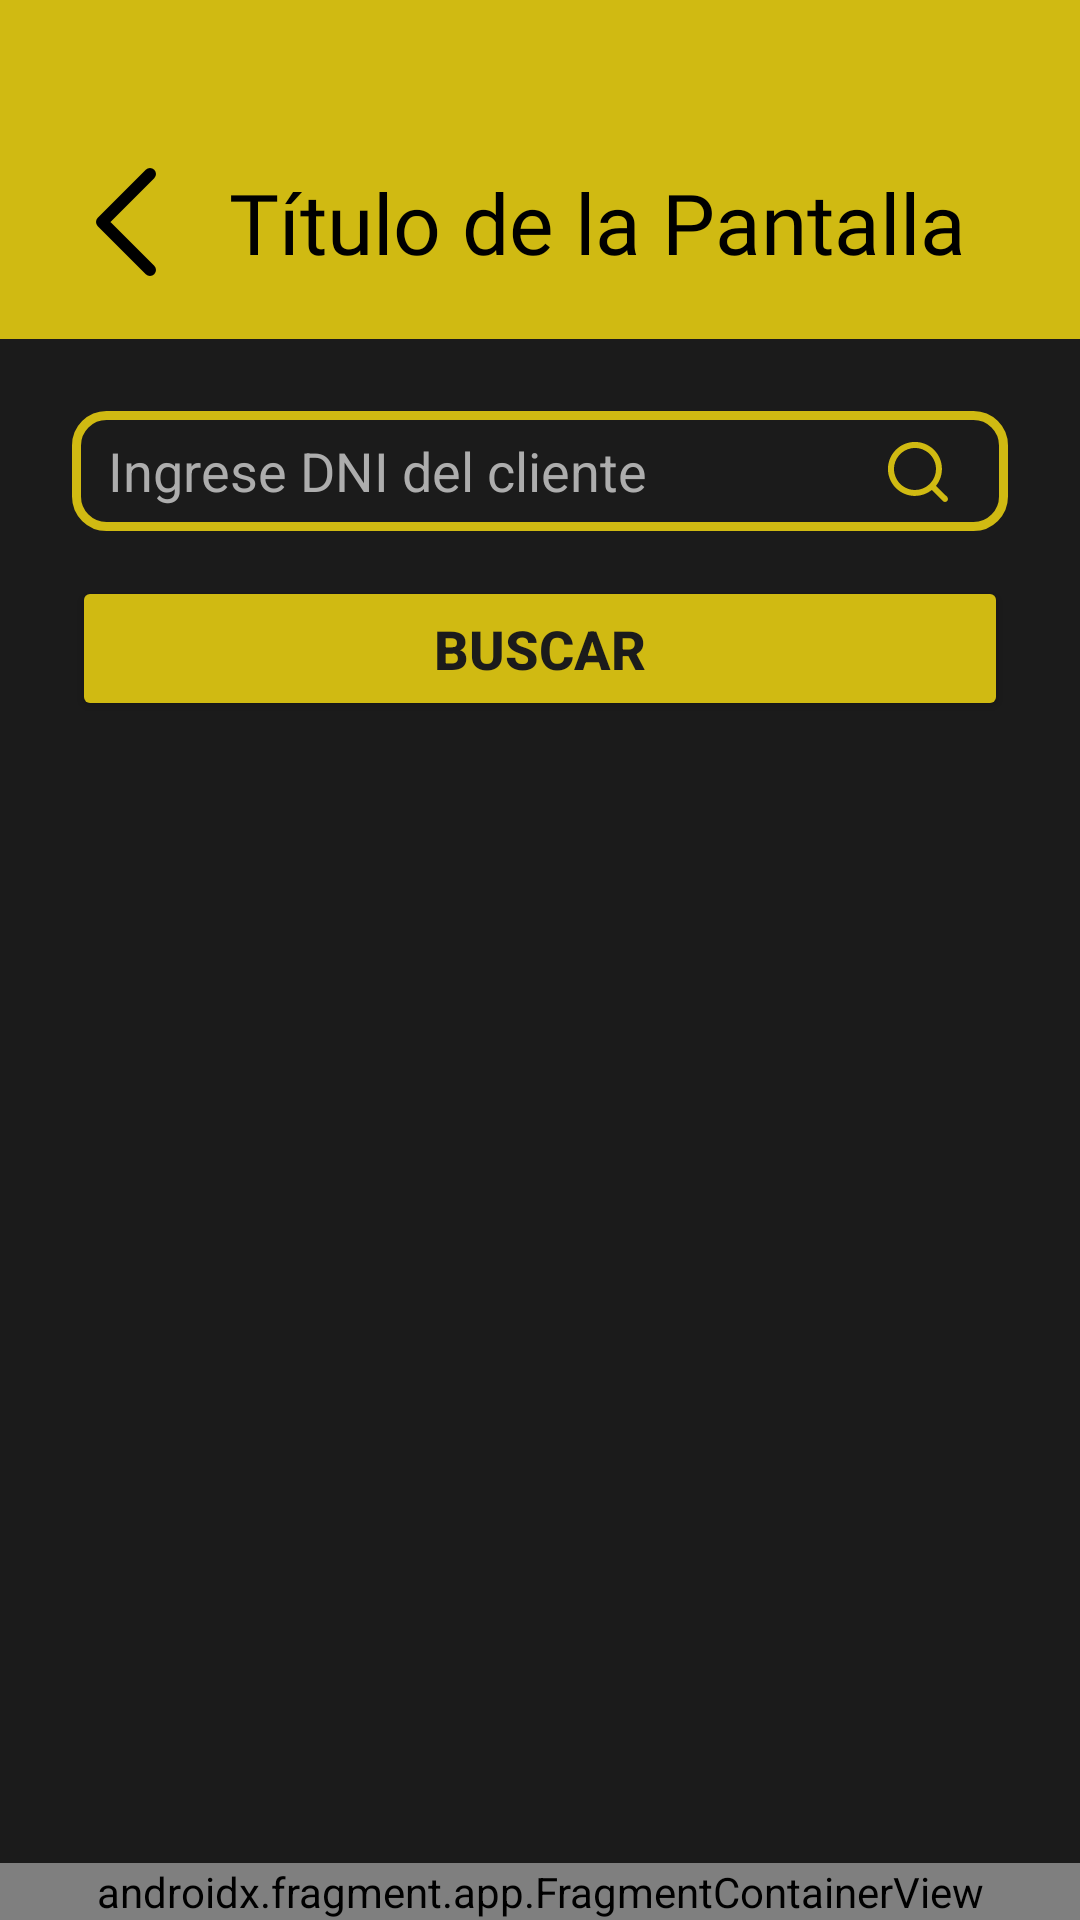

Where to tap for icons on this 1080 × 1920 app screen, as (x=x, y=y):
atras: (x=126, y=222)
